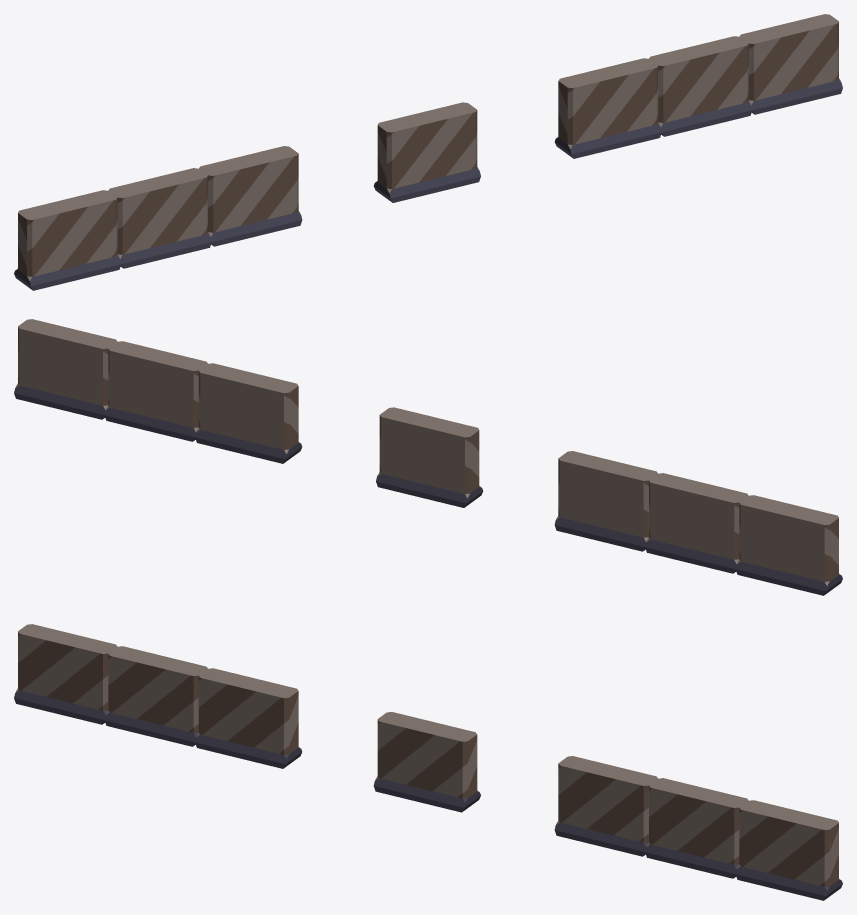
File: ChurchWall2.fbx
3 renders of one model, top to bottom at view 1: azimuth 30°, elevation 25°; view 2: azimuth 150°, elevation 25°; view 3: azimuth 330°, elevation 25°, orthographic.
Visible parts, largest first — view 1: Wall2.008; view 2: Wall2.008; view 3: Wall2.008.
Boxes of the visible parts, x1,y1,x2,y2 form: Wall2.008: [14, 14, 842, 290]; Wall2.008: [14, 319, 842, 595]; Wall2.008: [14, 624, 842, 900].
Bounding box in the file's own units: 35.9 × 3 × 1.32.
Materials: 3 (1 with a texture image).
